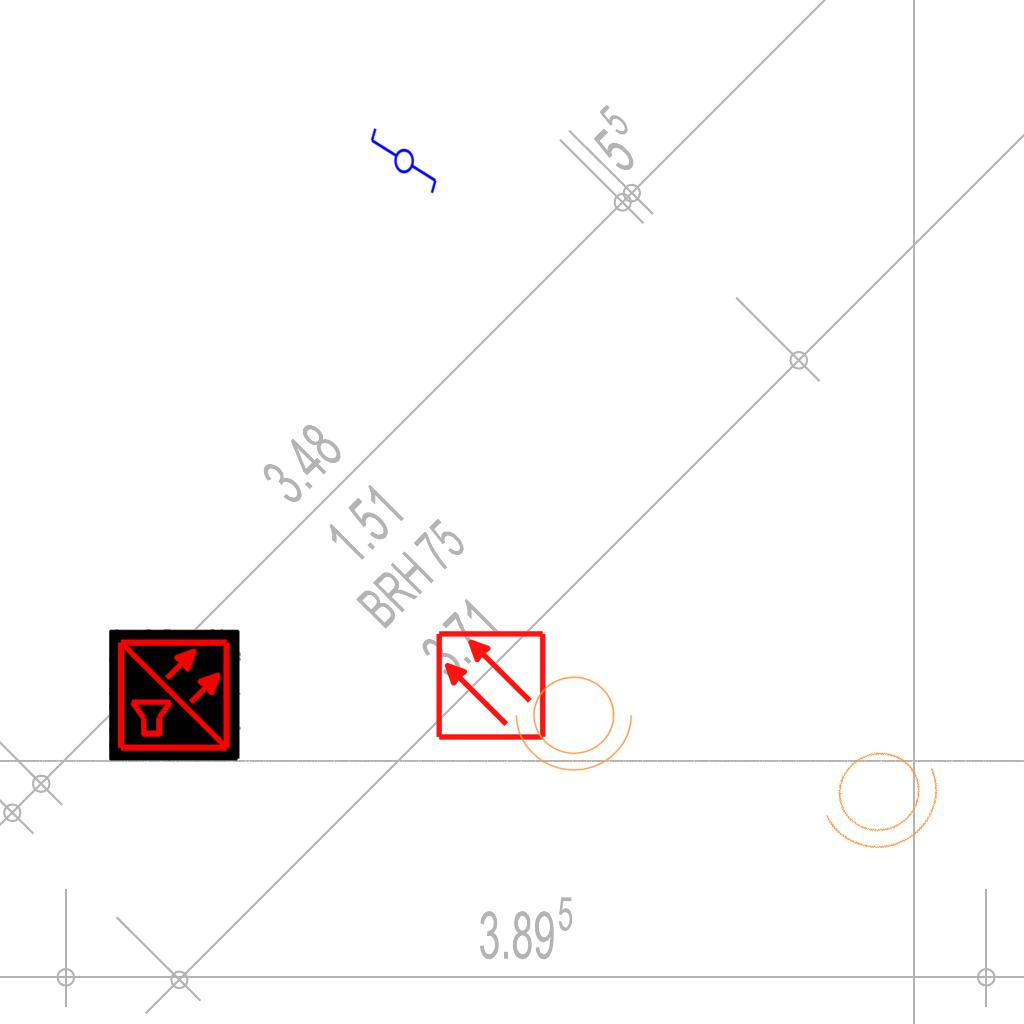OKW_Multisensormelder_(Kombination_optischer_Rauch-Kahlenmonoxid_Waerme-Melder): (109, 629, 241, 761)
RMO_Rauchmelder_optischer: (434, 629, 547, 742)
Scheinwerfer_fuer_Alarmbeleuchtung: (800, 716, 968, 874), (511, 664, 643, 776)
Wechselschalter: (367, 126, 439, 204)
